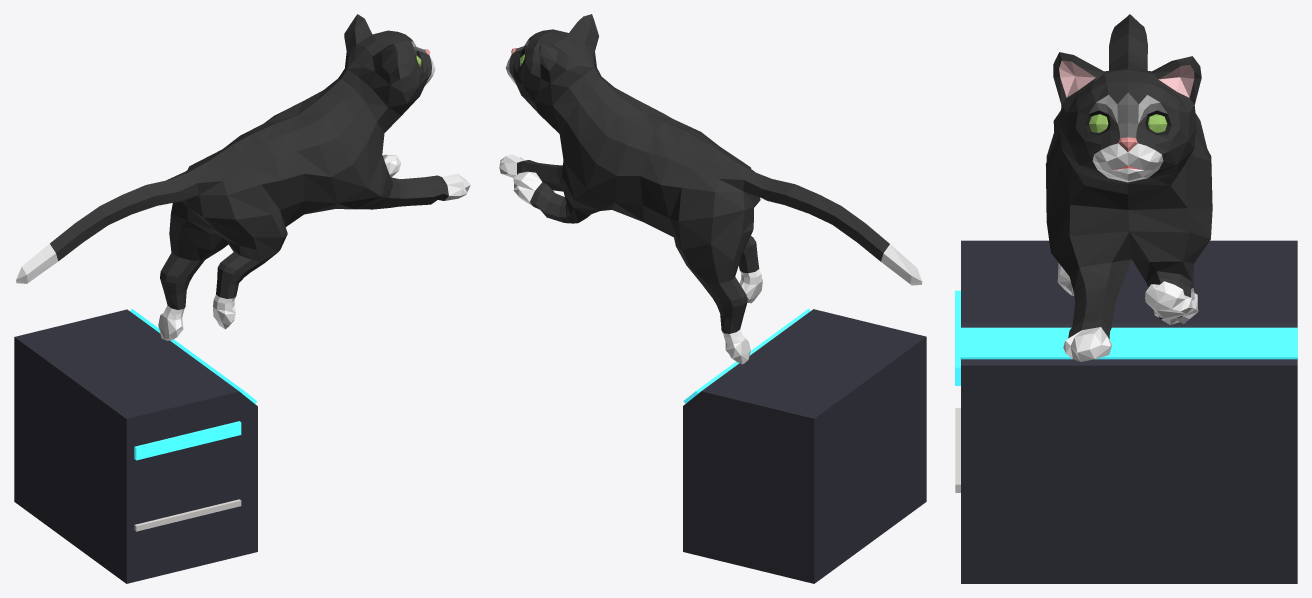
The model's file is 003-project-pawkour.glb.
3 views of the same model, side by side, from view 1: azimuth 30°, elevation 25°; view 2: azimuth 150°, elevation 25°; view 3: azimuth 270°, elevation 25° (orthographic). The views are drawn at different scales.
Parts seen in each view (by area): view 1: ledge, kitty-001-run-takeoff, cyan-band, panel-seam; view 2: ledge, kitty-001-run-takeoff, edge-strip; view 3: ledge, kitty-001-run-takeoff, edge-strip, cyan-band, panel-seam.
Boxes of the visible parts, bbox=[...] form: ledge: bbox=[14, 309, 257, 583]; kitty-001-run-takeoff: bbox=[16, 14, 470, 340]; cyan-band: bbox=[134, 421, 241, 460]; panel-seam: bbox=[134, 499, 241, 531]; ledge: bbox=[683, 309, 926, 583]; kitty-001-run-takeoff: bbox=[499, 14, 922, 364]; edge-strip: bbox=[683, 308, 810, 403]; ledge: bbox=[961, 240, 1297, 583]; kitty-001-run-takeoff: bbox=[1045, 14, 1212, 361]; edge-strip: bbox=[960, 327, 1297, 359]; cyan-band: bbox=[955, 290, 960, 385]; panel-seam: bbox=[955, 408, 960, 492].
Size of the model in its own units: 1.66 by 1.59 by 0.754.
